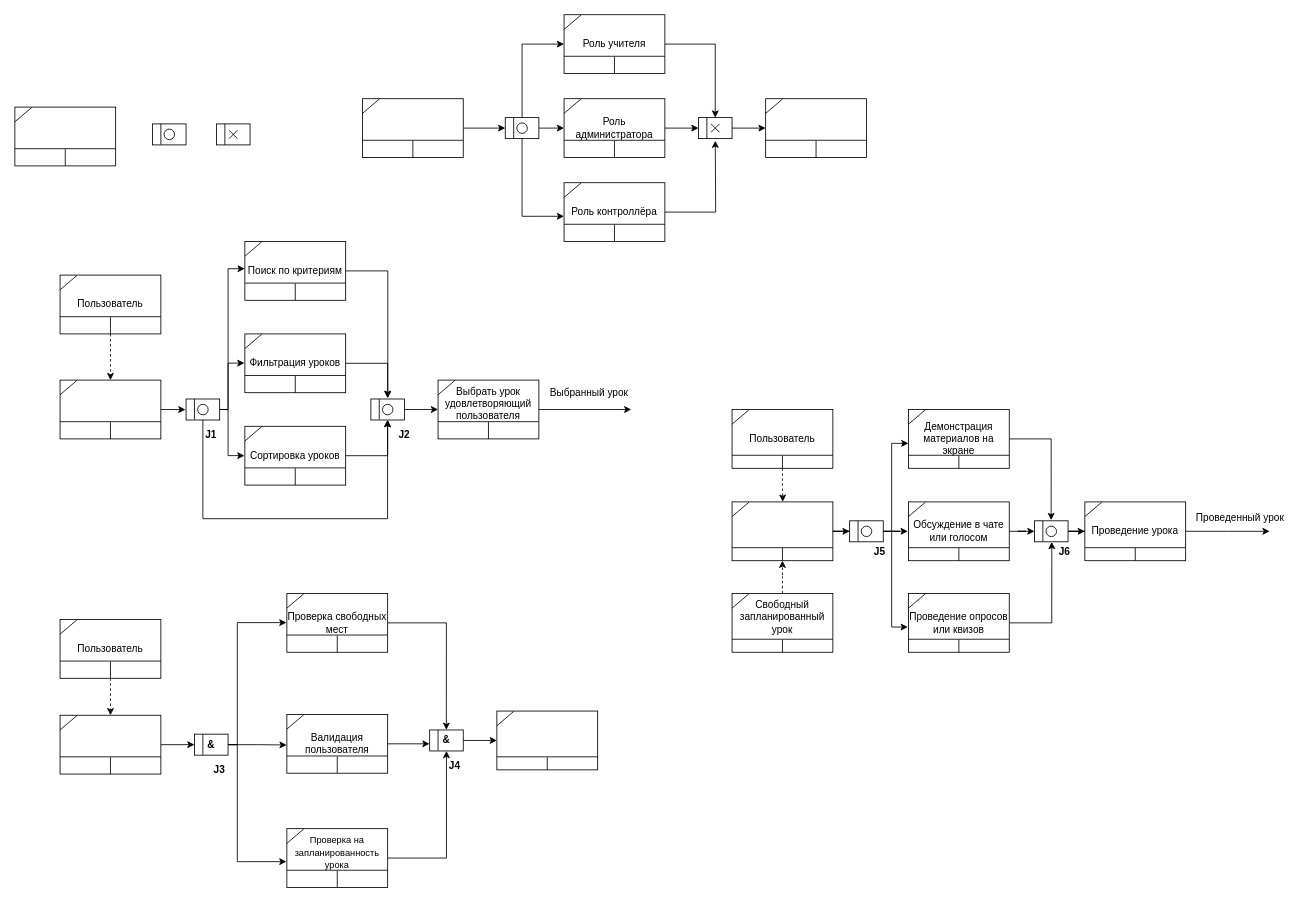
The diagram is 1301 pixels wide and 903 high, and some of its shapes have lost their labels. Each missing label, with the box of its shape:
Запрос на подключение к уроку: (59, 714, 161, 774)
Инициация звонка через платформу: (731, 501, 833, 561)
Конец авторизации: (765, 98, 866, 158)
Определение роли: (362, 98, 463, 158)
Подключение к уроку: (496, 710, 598, 770)
Просмотр списка уроков удовлетворяющих требованиям: (59, 379, 161, 439)
